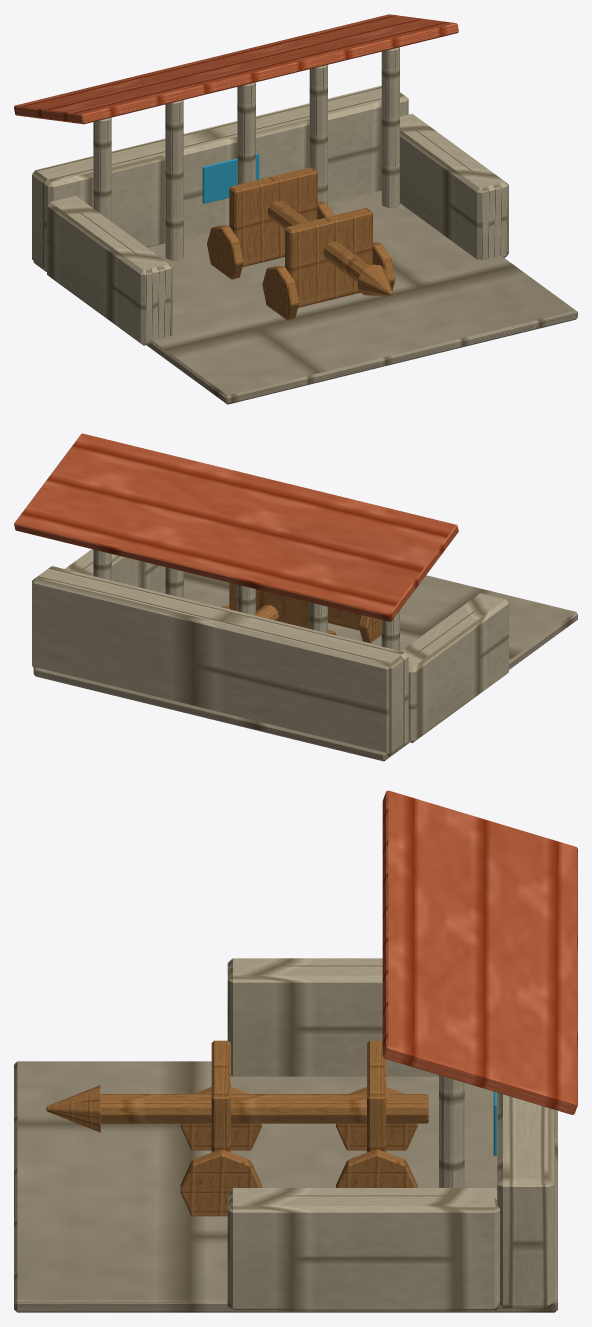
Rendered from edificio-b_016-e1-C0cwHhUM.glb.
3 views of the same model, one above another, from view 1: azimuth 30°, elevation 25°; view 2: azimuth 150°, elevation 25°; view 3: azimuth 270°, elevation 25° (orthographic). The views are drawn at different scales.
Visible parts, largest first — view 1: envolvente_fabrica_asedio_e1, mecanismo_fabrica_asedio_e1, team_color; view 2: envolvente_fabrica_asedio_e1, mecanismo_fabrica_asedio_e1; view 3: envolvente_fabrica_asedio_e1, mecanismo_fabrica_asedio_e1.
Boxes of the visible parts, box(x1,y1,x2,y2) form: envolvente_fabrica_asedio_e1: box(14, 14, 577, 404); mecanismo_fabrica_asedio_e1: box(207, 167, 395, 319); team_color: box(202, 153, 259, 203); envolvente_fabrica_asedio_e1: box(14, 433, 577, 761); mecanismo_fabrica_asedio_e1: box(221, 582, 381, 642); envolvente_fabrica_asedio_e1: box(14, 790, 577, 1312); mecanismo_fabrica_asedio_e1: box(46, 1040, 428, 1216).
Bounding box in the file's own units: 47 × 23.43 × 43.53.
Materials: 2 (1 with a texture image).
